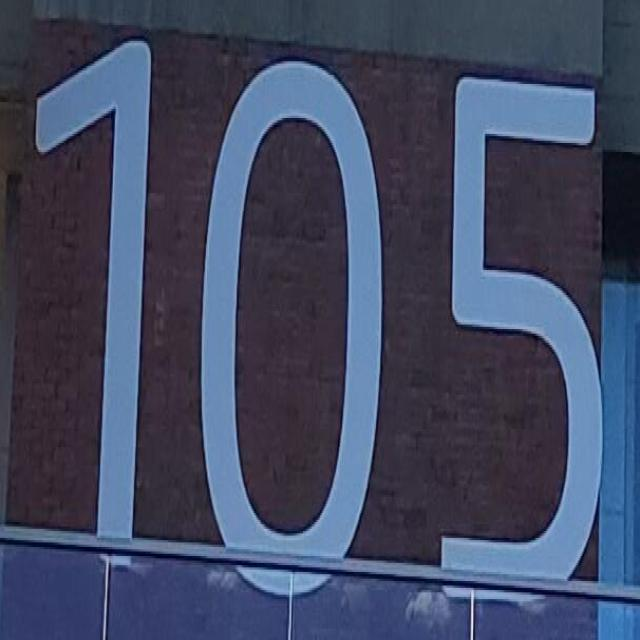character: (194, 41, 386, 600), (436, 54, 610, 611), (32, 34, 159, 569)
